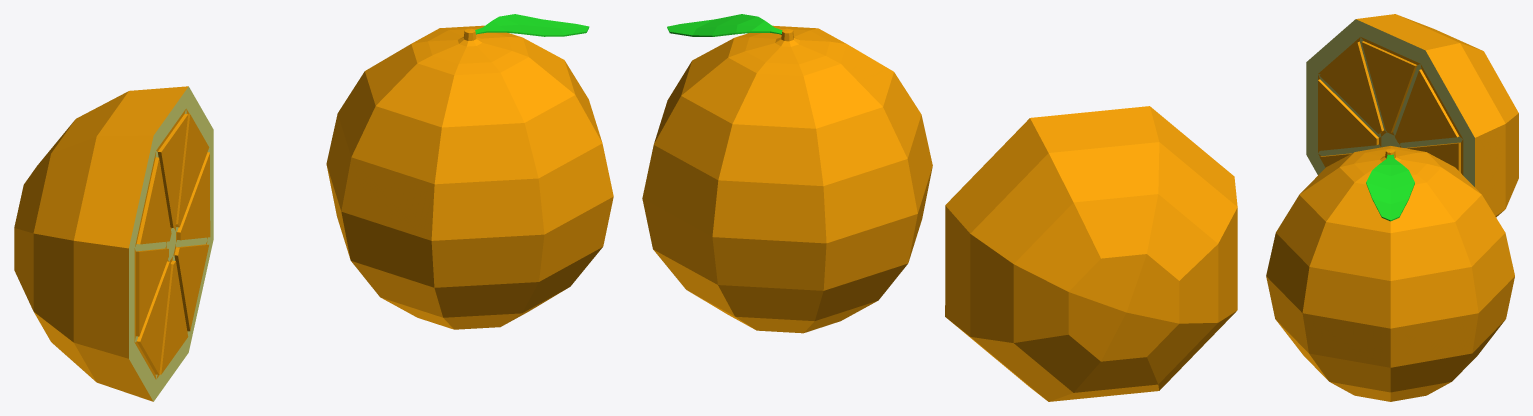
File: cartoonorange.glb
3 renders of one model, left to right at view 1: azimuth 30°, elevation 25°; view 2: azimuth 150°, elevation 25°; view 3: azimuth 270°, elevation 25°, orthographic. The views are drawn at different scales.
Visible parts, largest first — view 1: Orange, HOrange; view 2: Orange, HOrange; view 3: Orange, HOrange.
Boxes of the visible parts, x1,y1,x2,y2 form: Orange: (326, 14, 613, 329); HOrange: (14, 86, 213, 401); Orange: (642, 14, 932, 333); HOrange: (945, 106, 1237, 401); Orange: (1266, 146, 1514, 401); HOrange: (1306, 14, 1518, 217).
Size of the model in its own units: 0.1763 by 0.0826 by 0.0823.
